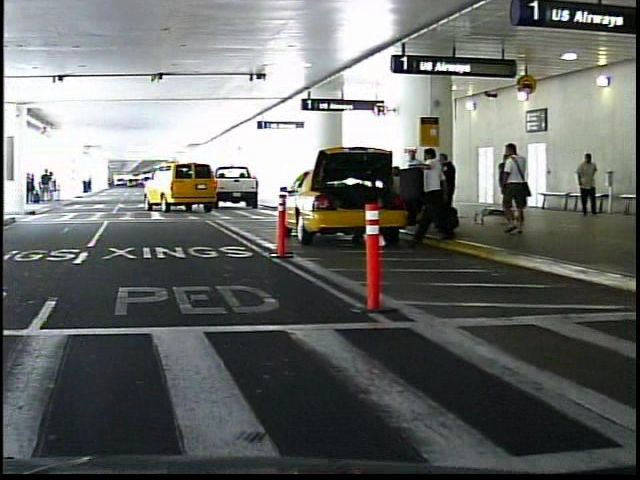person: (494, 139, 529, 239), (568, 149, 597, 217)
